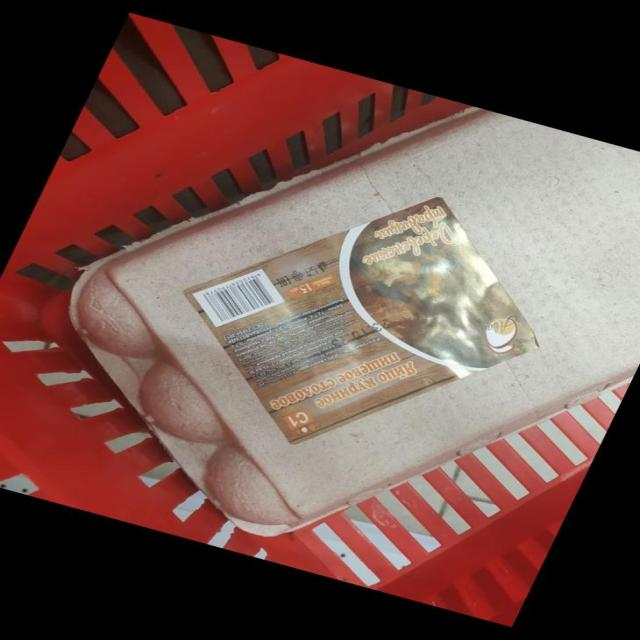Eggs: (69, 107, 640, 535)
